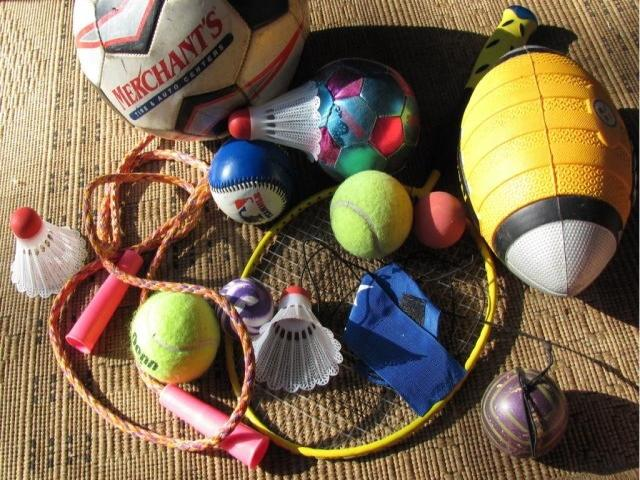tennis-ball: (128, 290, 221, 384)
